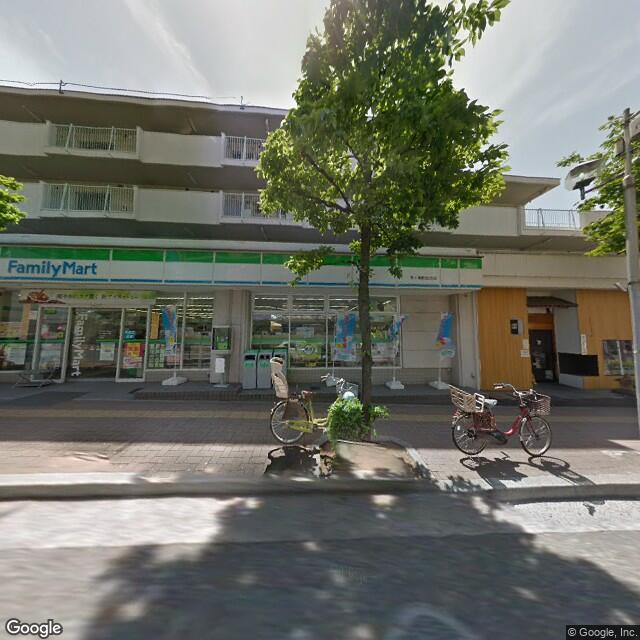family_mart: (1, 242, 483, 295), (6, 252, 102, 283), (70, 308, 86, 380)
